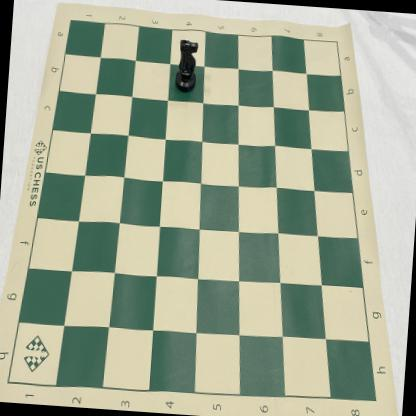knight: (174, 38, 200, 94)
